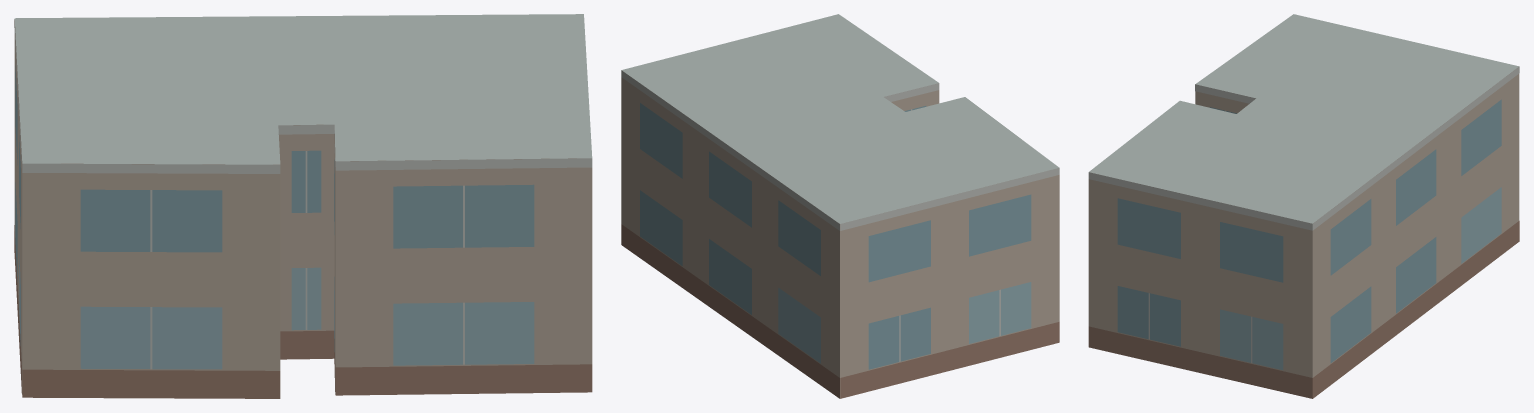
File: survey-upis-32571449.glb
3 views of the same model, side by side, from view 1: azimuth 30°, elevation 25°; view 2: azimuth 150°, elevation 25°; view 3: azimuth 270°, elevation 25° (orthographic). The views are drawn at different scales.
Parts seen in each view (by area): view 1: survey-upis-32571449.tmp; view 2: survey-upis-32571449.tmp; view 3: survey-upis-32571449.tmp.
Part boxes in pixels (x1,y1,x2,y2): survey-upis-32571449.tmp: (14,14,592,398); survey-upis-32571449.tmp: (621,14,1059,398); survey-upis-32571449.tmp: (1088,14,1519,398).
Bounding box in the file's own units: 15.67 × 6.1 × 13.6.
